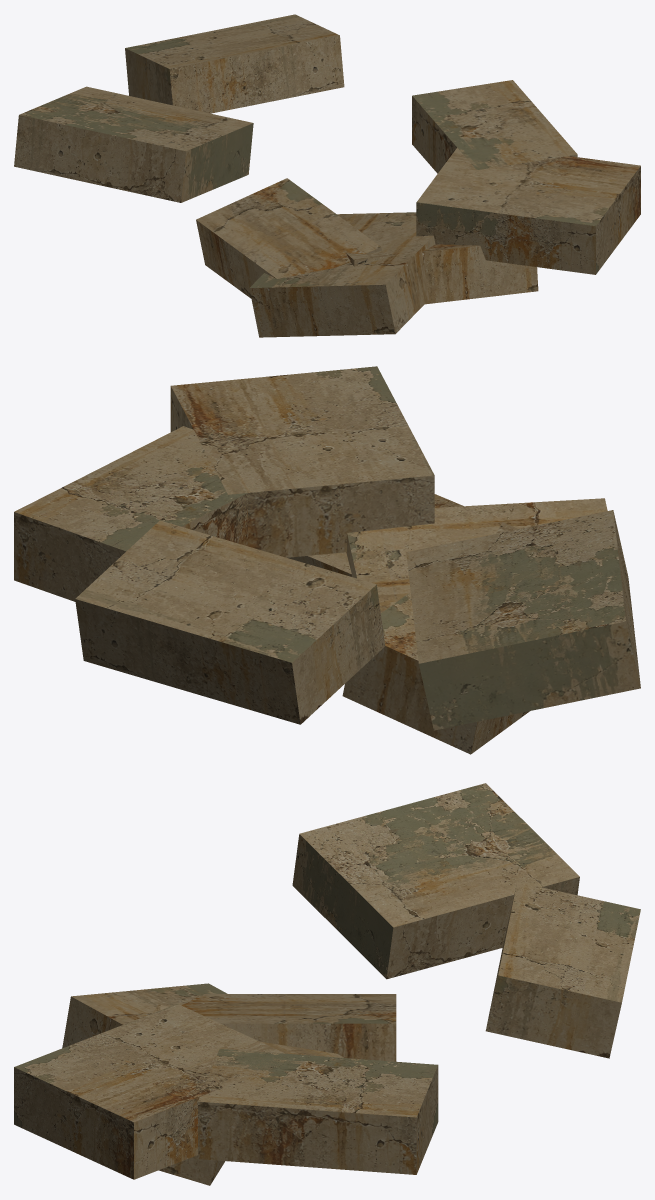
Rendered from city-rubble.glb.
3 views of the same model, one above another, from view 1: azimuth 30°, elevation 25°; view 2: azimuth 150°, elevation 25°; view 3: azimuth 270°, elevation 25° (orthographic). The views are drawn at different scales.
Parts seen in each view (by area): view 1: city-rubble-concrete; view 2: city-rubble-concrete; view 3: city-rubble-concrete.
Boxes of the visible parts, box(x1,y1,x2,y2) form: city-rubble-concrete: box(14, 14, 640, 337); city-rubble-concrete: box(14, 366, 640, 754); city-rubble-concrete: box(14, 783, 640, 1185).
Bounding box in the file's own units: 3.1 × 1 × 2.97.
1 material, 1 textured.
